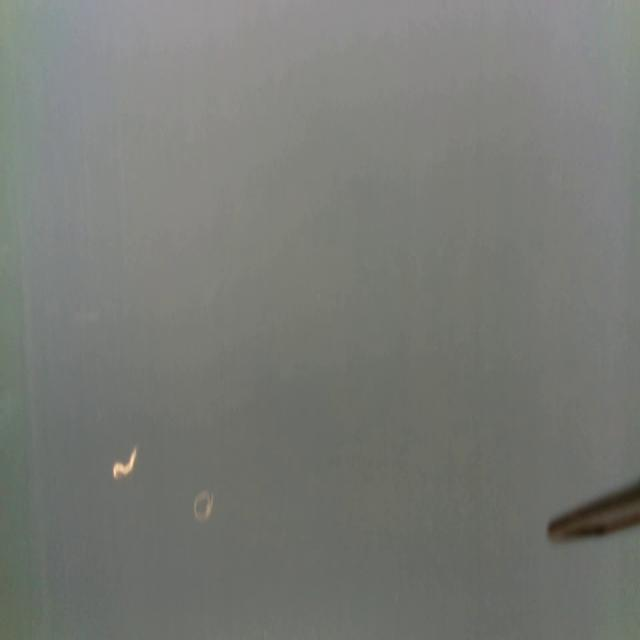hole: (111, 446, 139, 482)
